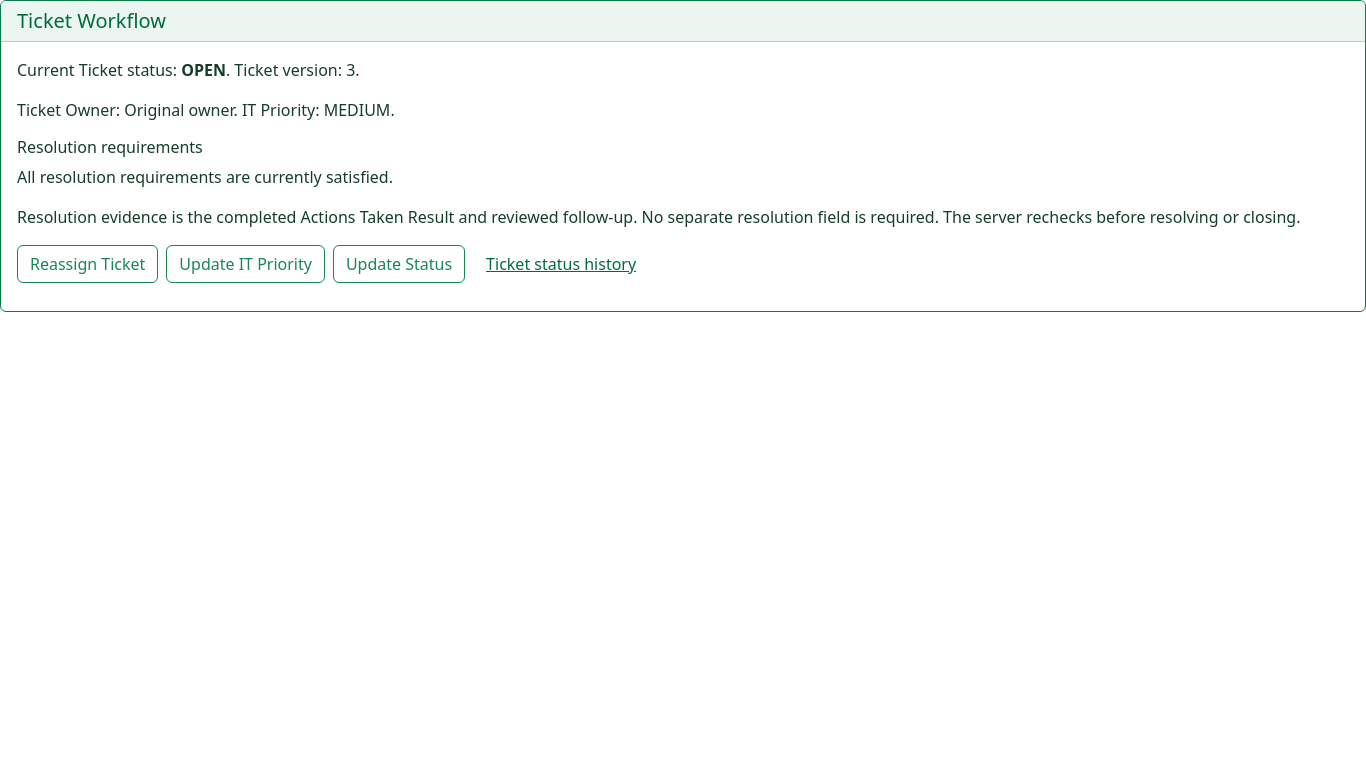
Test case: Ticket Workflow component (UI-03, I4 AC-01–06) › loads empty immutable history and retries safe history errors
Step 1. Click the button "Ticket status history" → (561, 264), box x1=473 y1=245 x2=649 y2=283
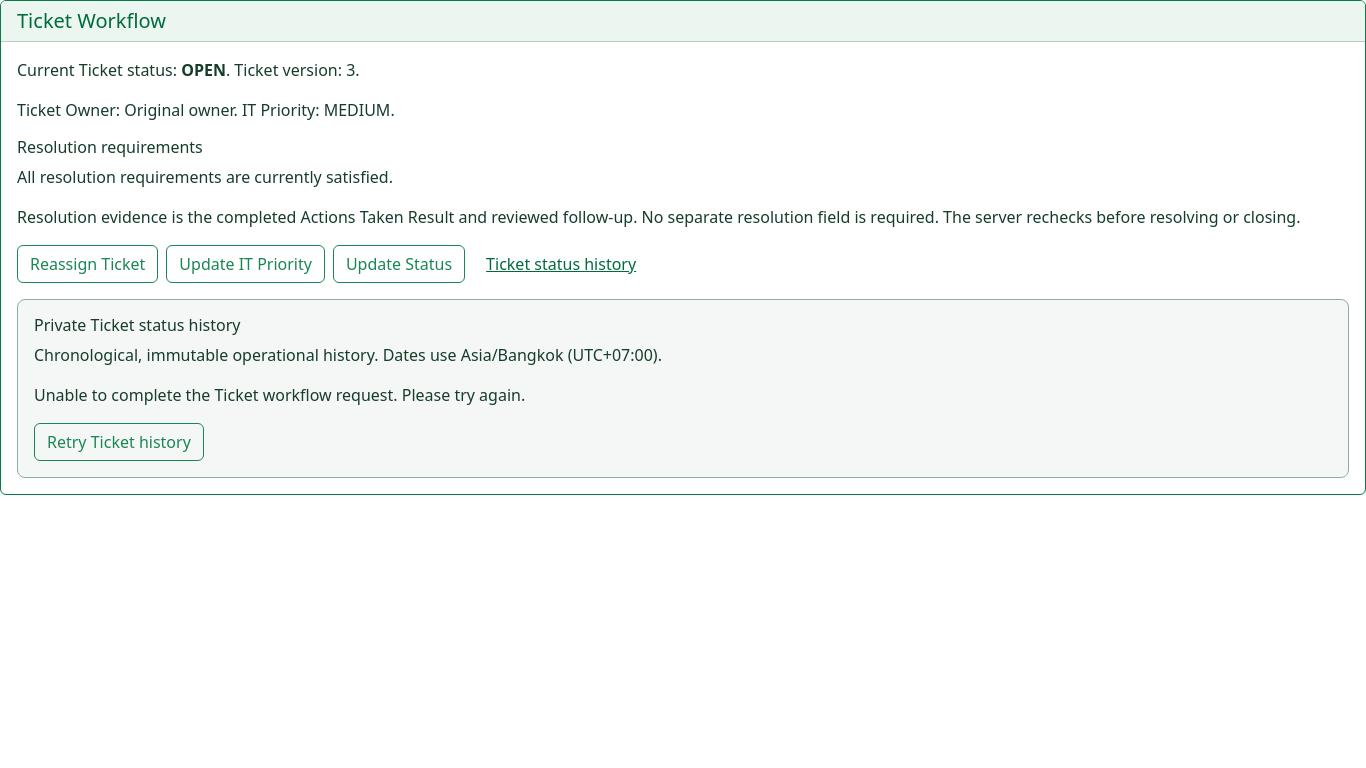
Step 2. Click the button "Retry Ticket history" → (119, 442), box x1=34 y1=423 x2=204 y2=461
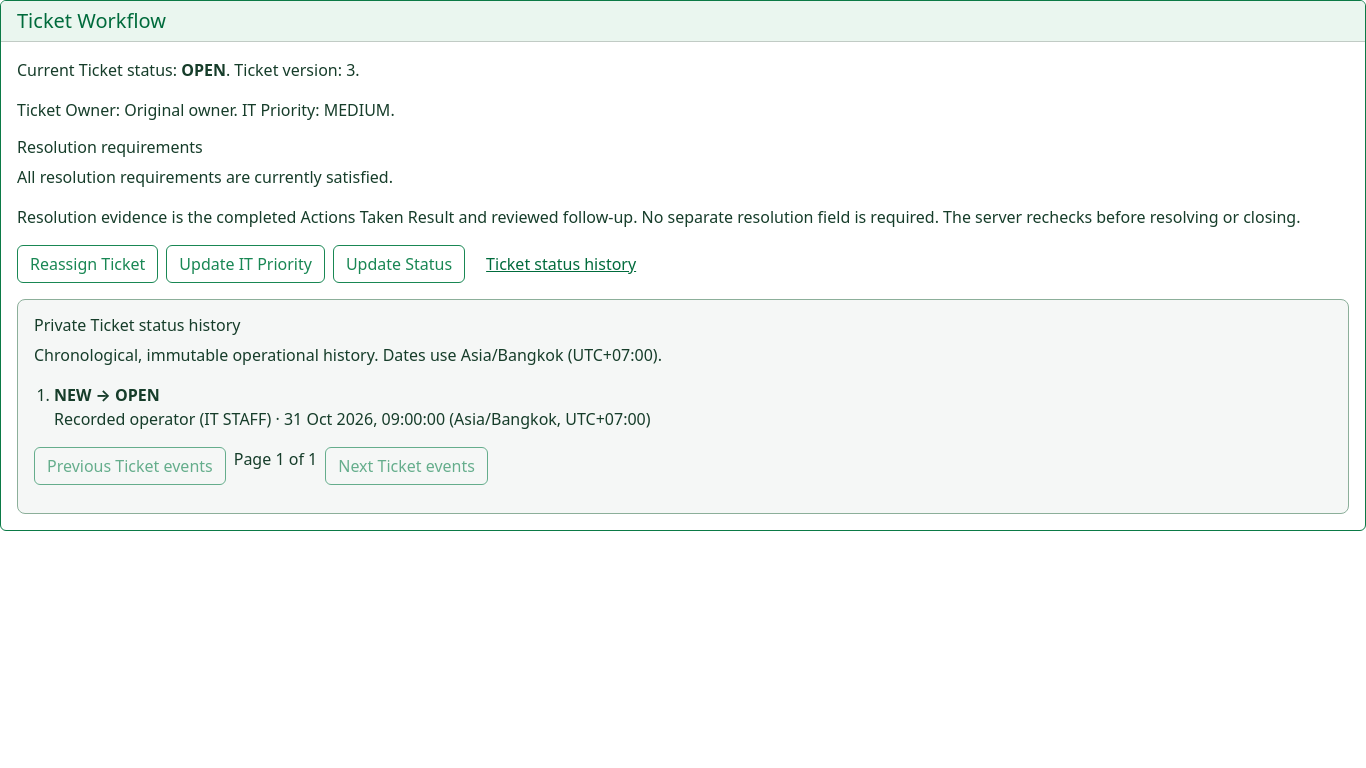
Check: the text "Recorded operator" is shown, box x1=54 y1=408 x2=195 y2=430
